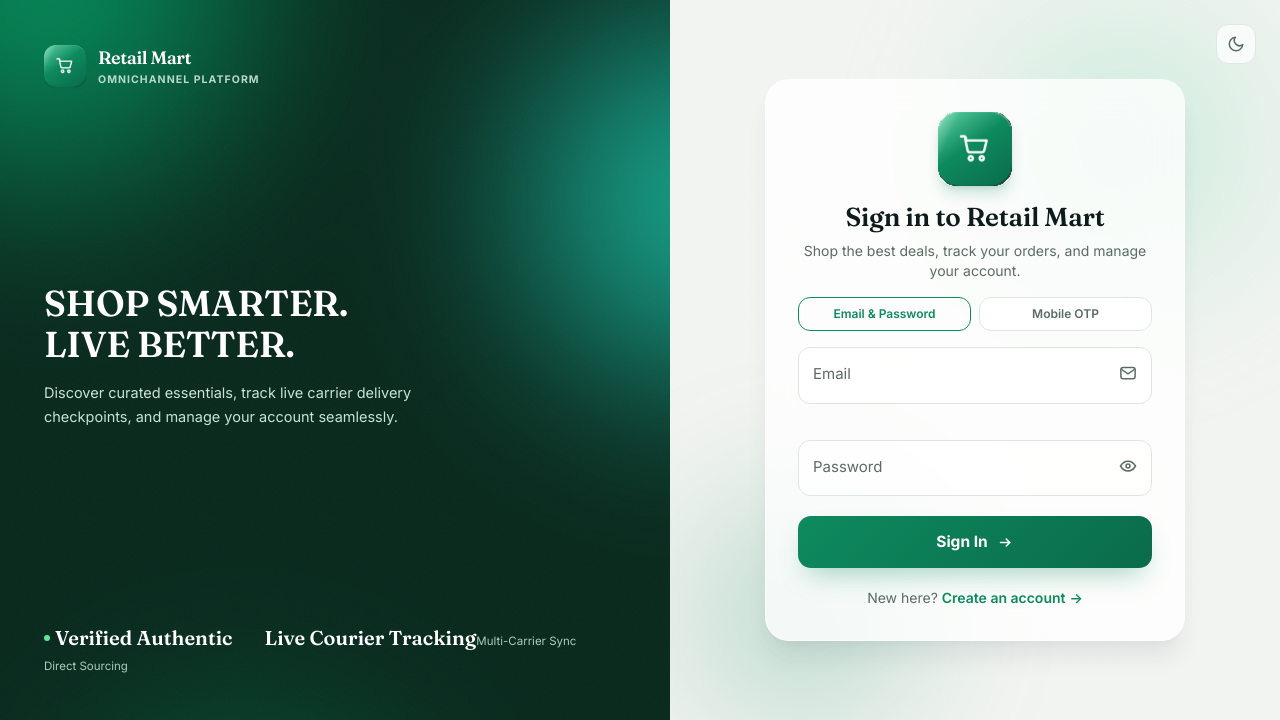
Test: Simplified Authentication UI & RBAC Flow › 12. Validates Indian phone number in OTP login and rejects invalid numbers
This screenshot has width=1280, height=720.
Click the button "Mobile OTP": (1066, 314) [979,297,1152,331]
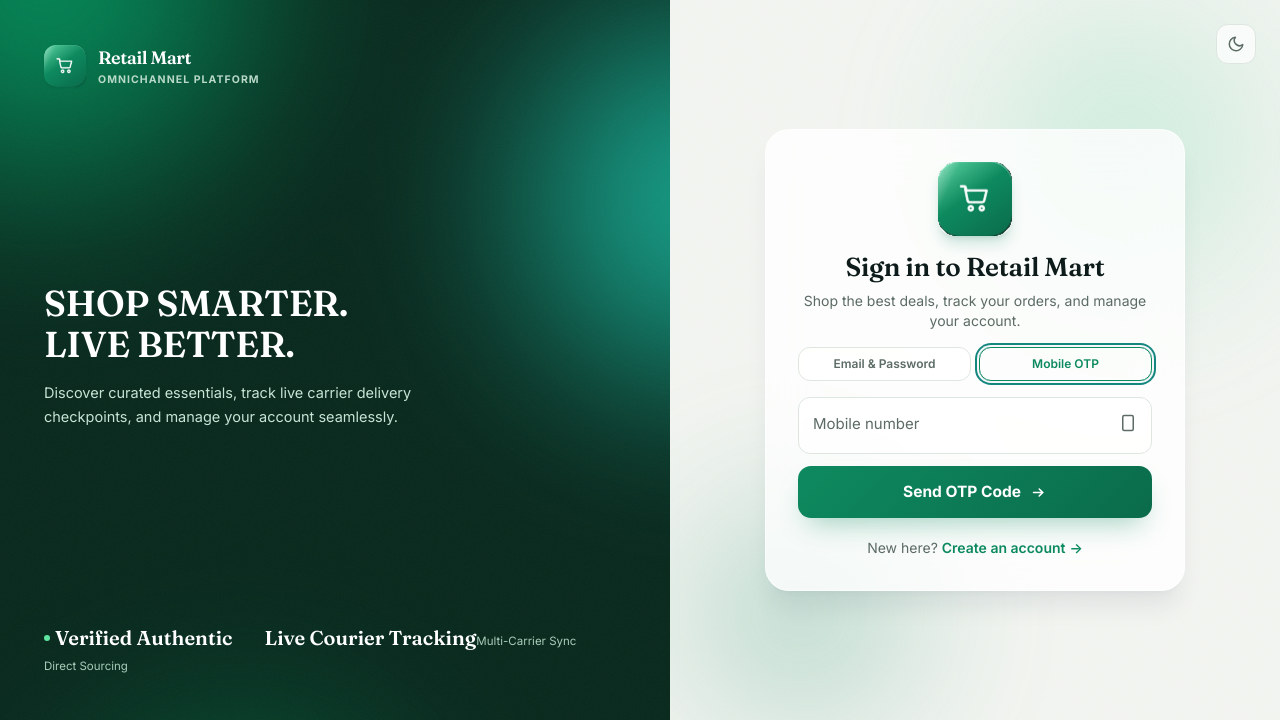
In the field labelled "Mobile number": (975, 426) [798,397,1152,454], type "12345"
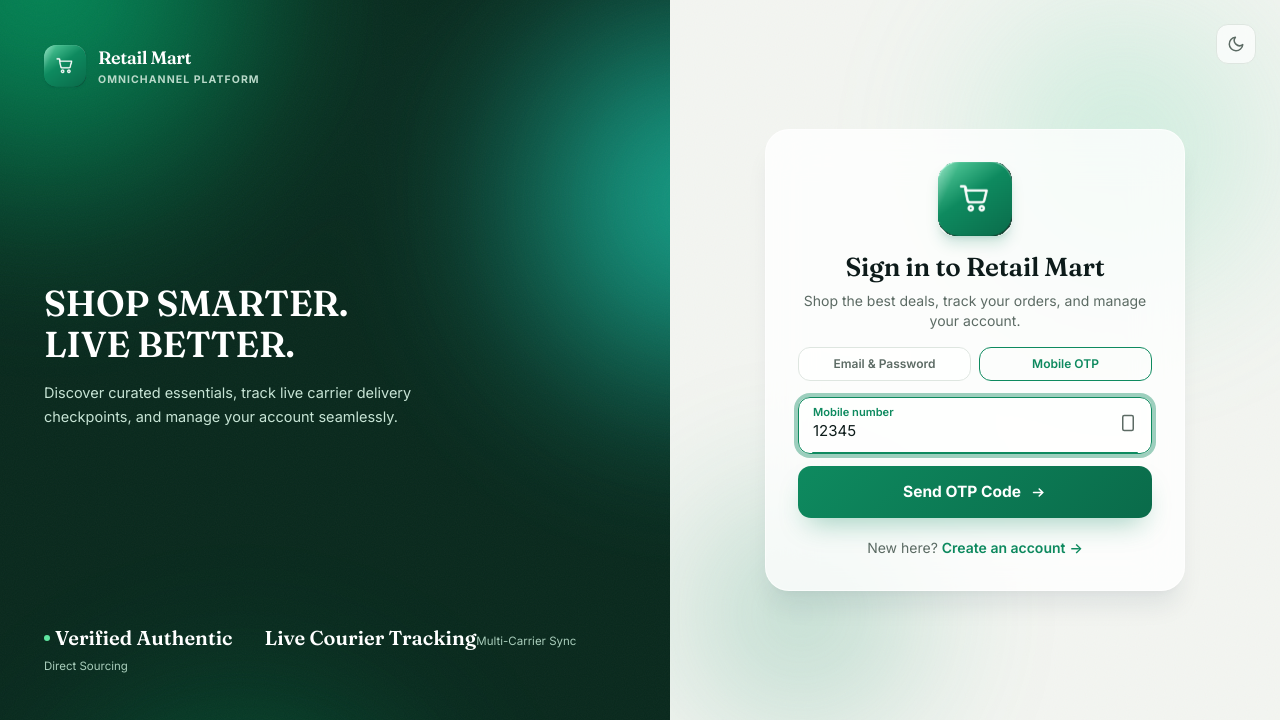
Click the button "Send OTP Code": (975, 492) [798,466,1152,518]
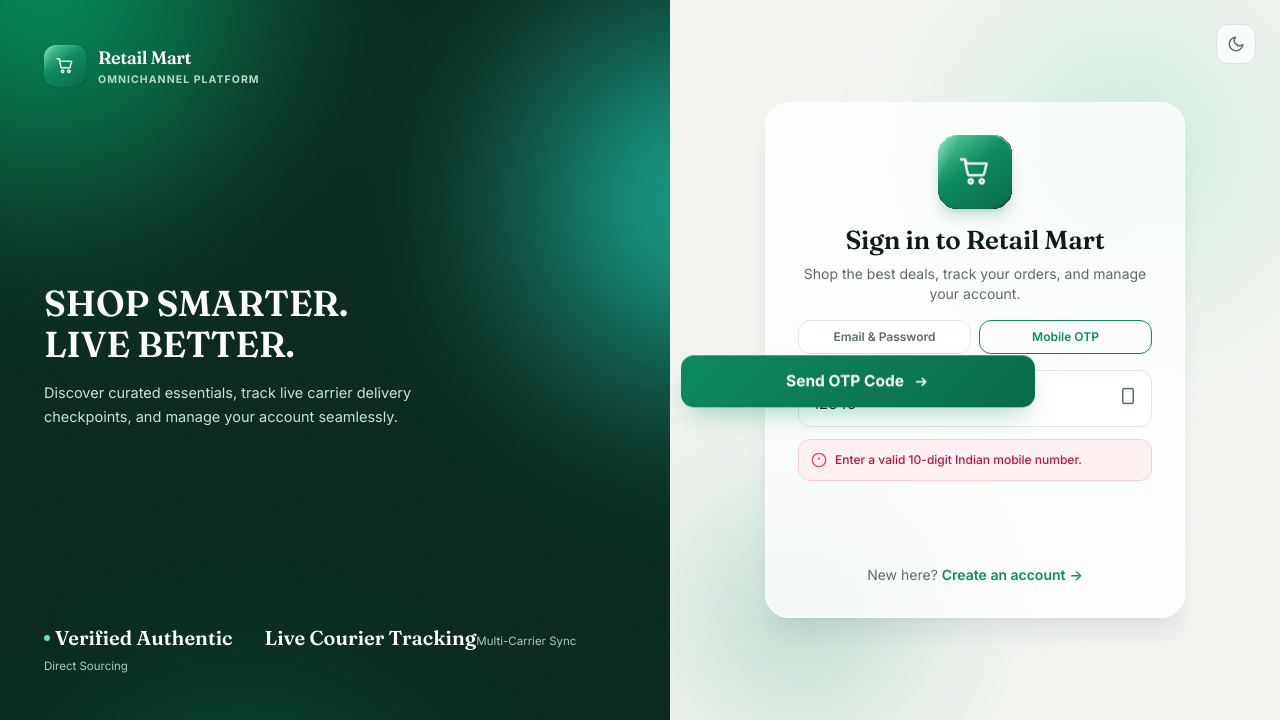
Check: the message shows "valid 10-digit Indian mobile number", box [835,452,1082,467]
